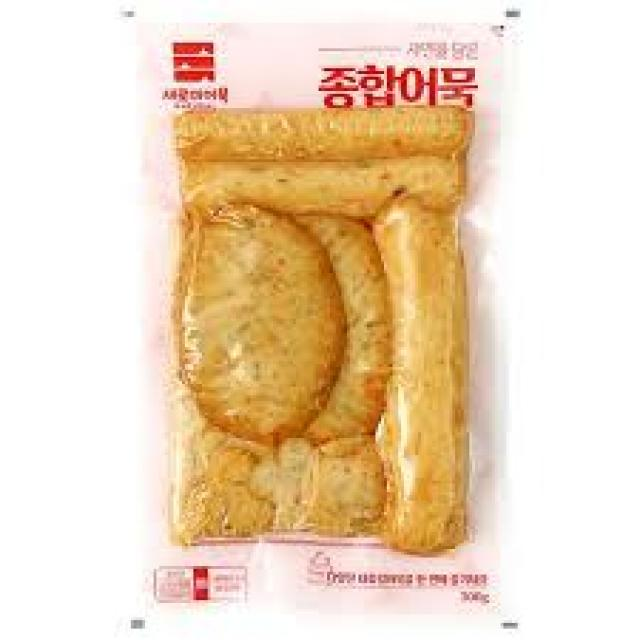fish_cake: (128, 14, 503, 632)
